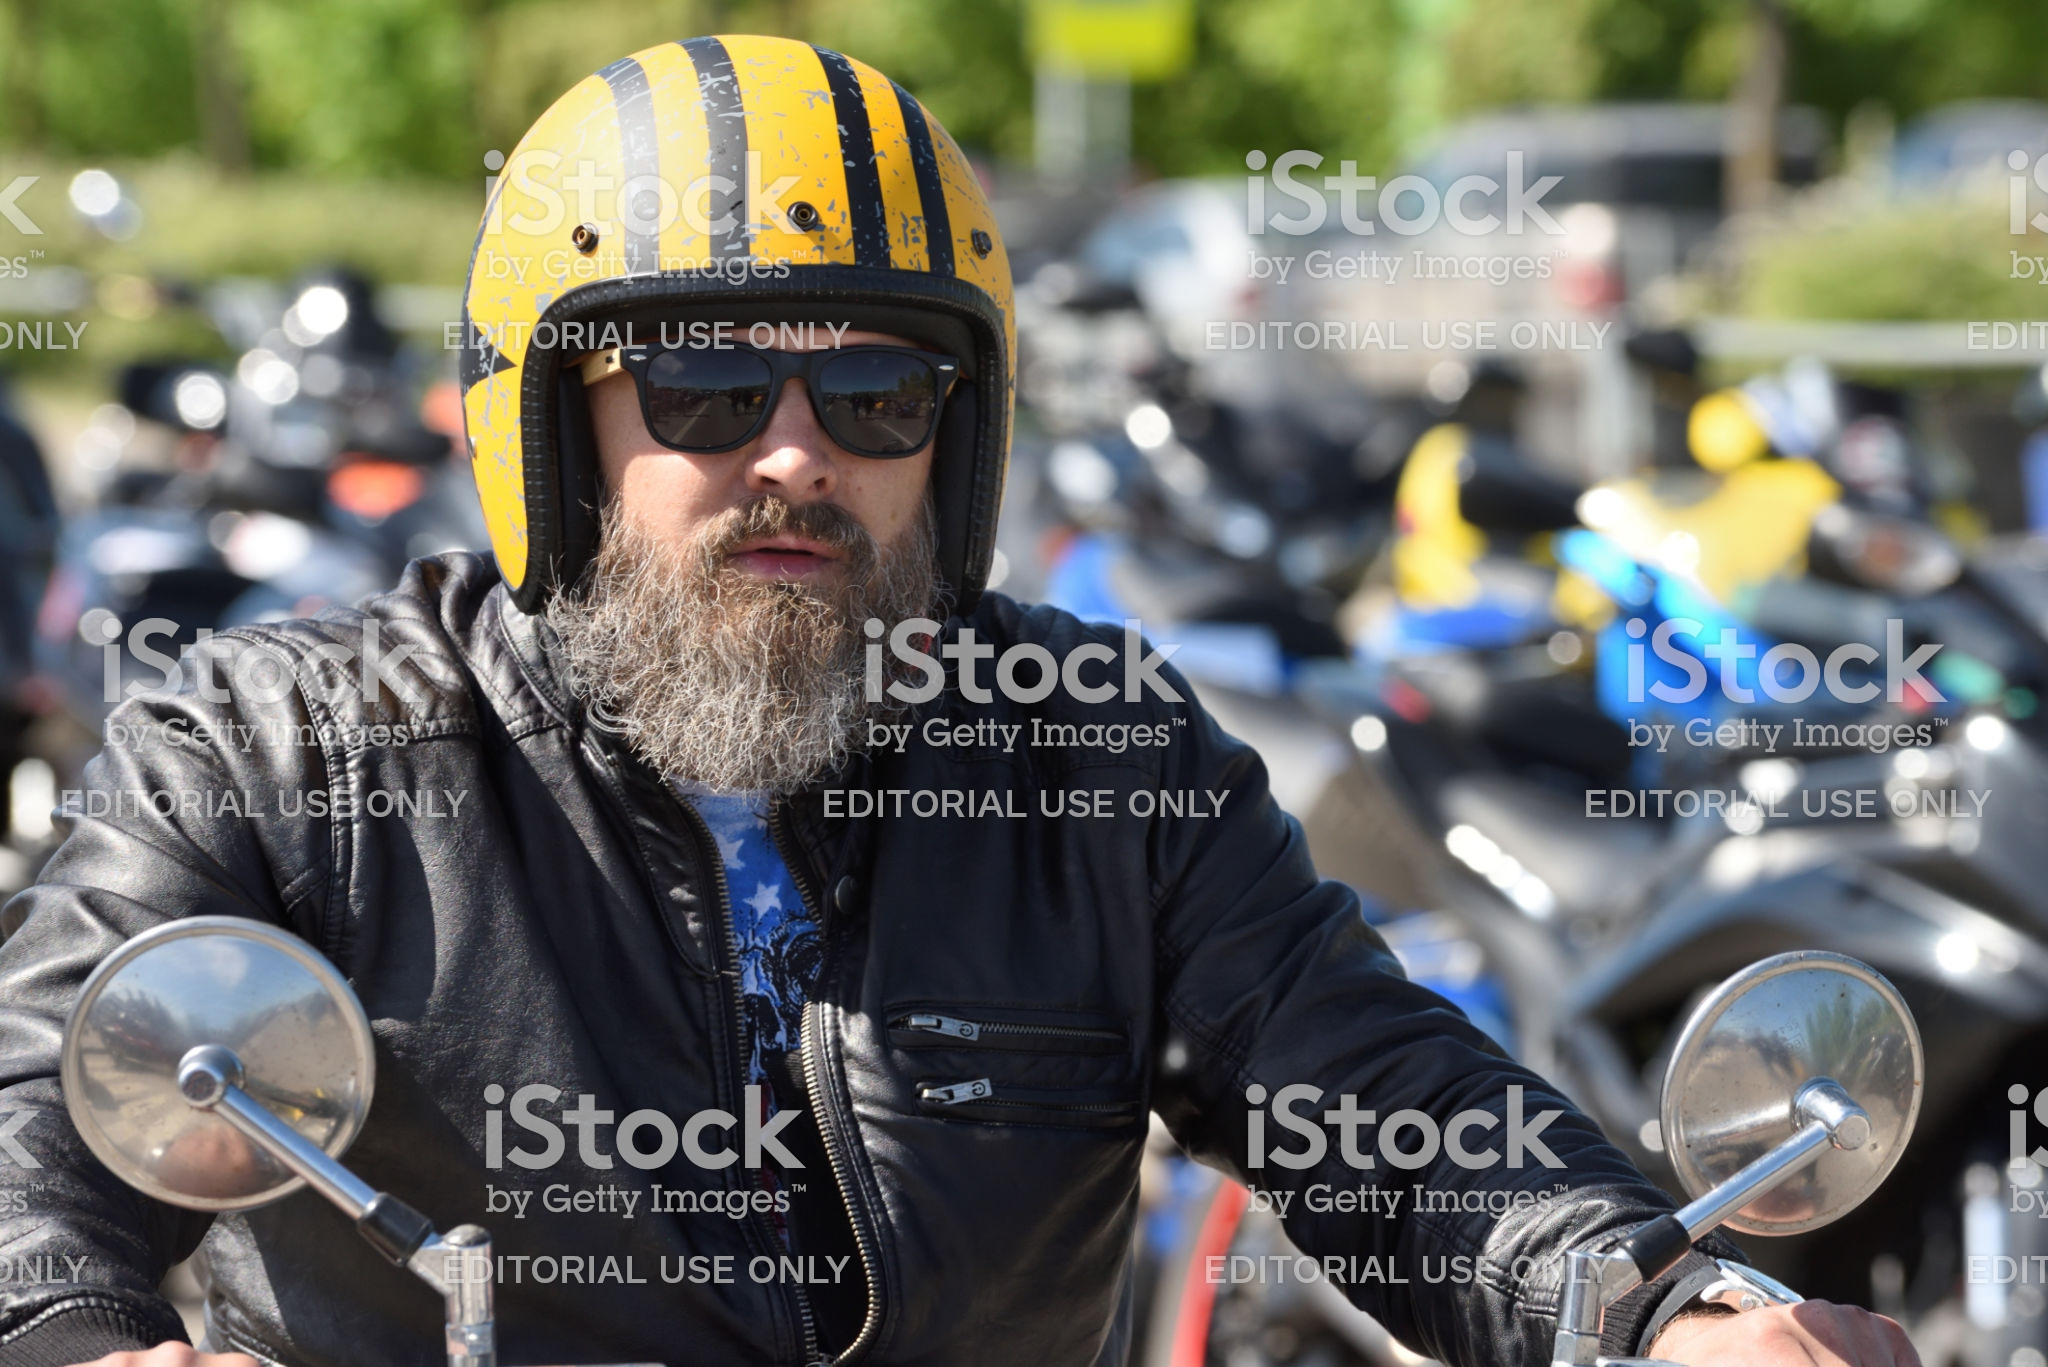helmet: (425, 47, 1055, 629)
